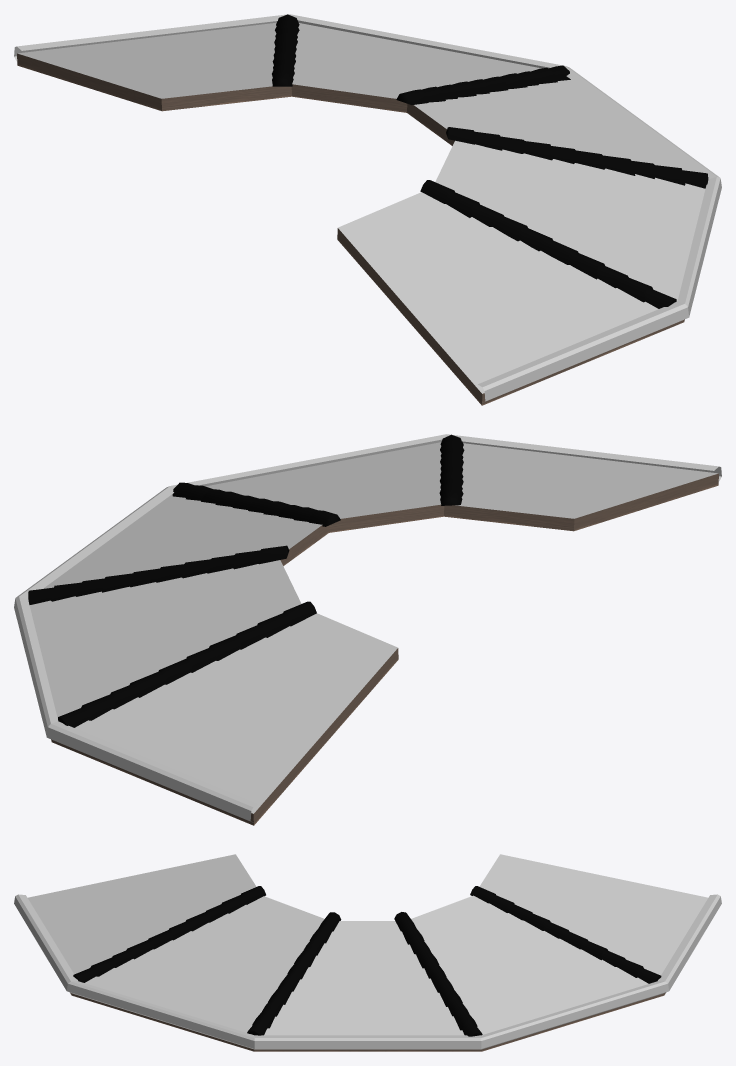
File: SM_RoofAspe.fbx
3 views of the same model, one above another, from view 1: azimuth 30°, elevation 25°; view 2: azimuth 150°, elevation 25°; view 3: azimuth 270°, elevation 25° (orthographic). The views are drawn at different scales.
Parts seen in each view (by area): view 1: SM_RoofAspe; view 2: SM_RoofAspe; view 3: SM_RoofAspe.
Part boxes in pixels (x1,y1,x2,y2): SM_RoofAspe: (14, 14, 721, 405); SM_RoofAspe: (14, 434, 721, 825); SM_RoofAspe: (14, 854, 721, 1051).
Size of the model in its own units: 1305 by 260 by 2686.
